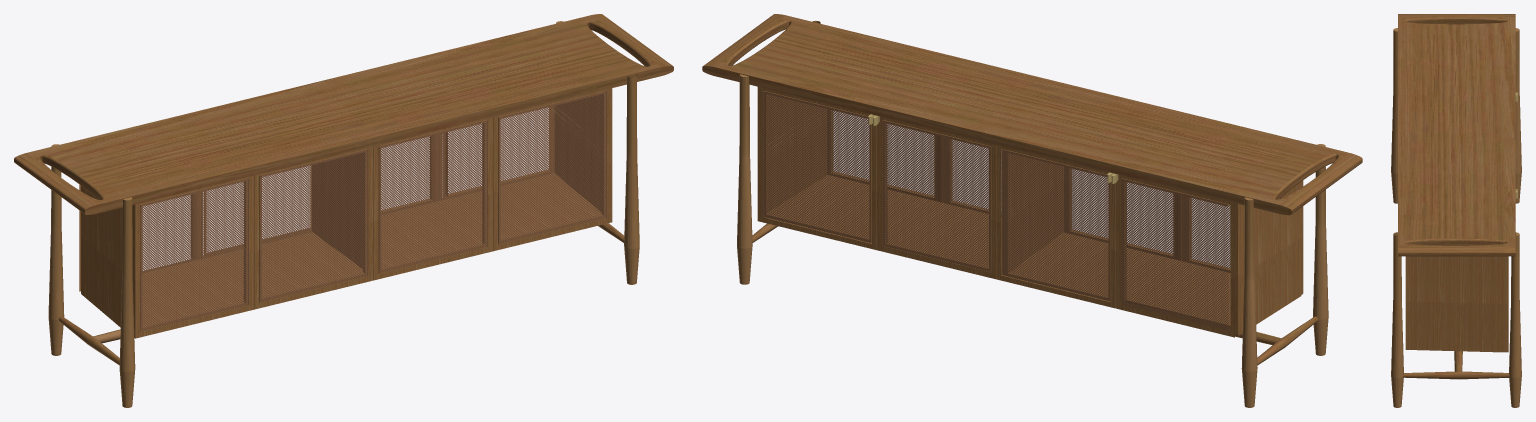
The model's file is buffet_aero.glb.
3 renders of one model, left to right at view 1: azimuth 30°, elevation 25°; view 2: azimuth 150°, elevation 25°; view 3: azimuth 270°, elevation 25°, orthographic. The views are drawn at different scales.
Parts seen in each view (by area): view 1: Mesh_15; view 2: Mesh_15; view 3: Mesh_15.
Part boxes in pixels (x1,y1,x2,y2): Mesh_15: [14, 14, 673, 407]; Mesh_15: [702, 14, 1362, 407]; Mesh_15: [1391, 14, 1521, 407].
Size of the model in its own units: 2.6 by 0.8765 by 0.6024.
6 materials, 4 textured.
